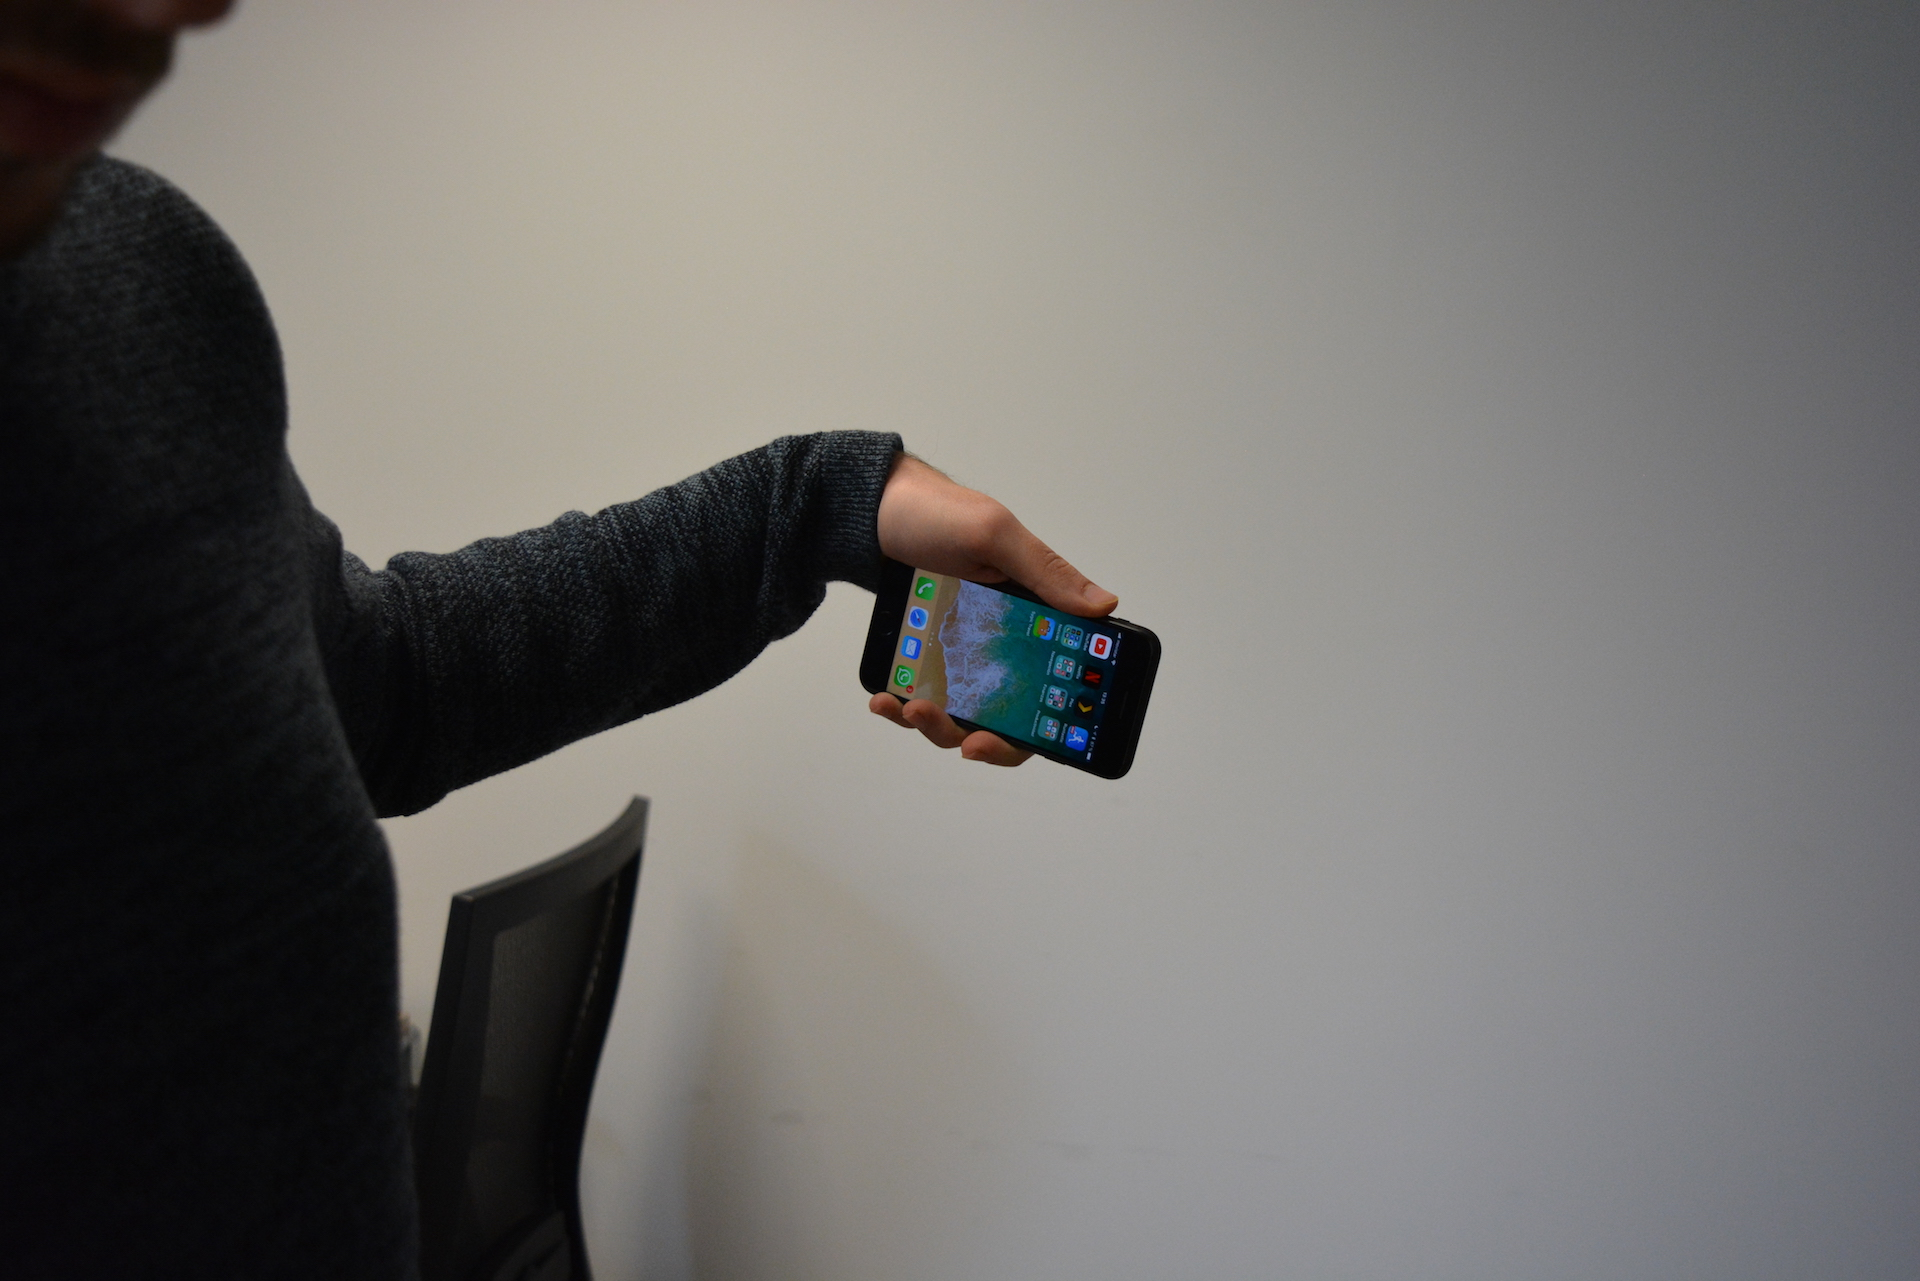smartphone: (858, 553, 1162, 781)
